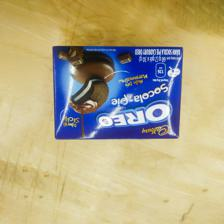Oreo: (51, 45, 183, 140)
